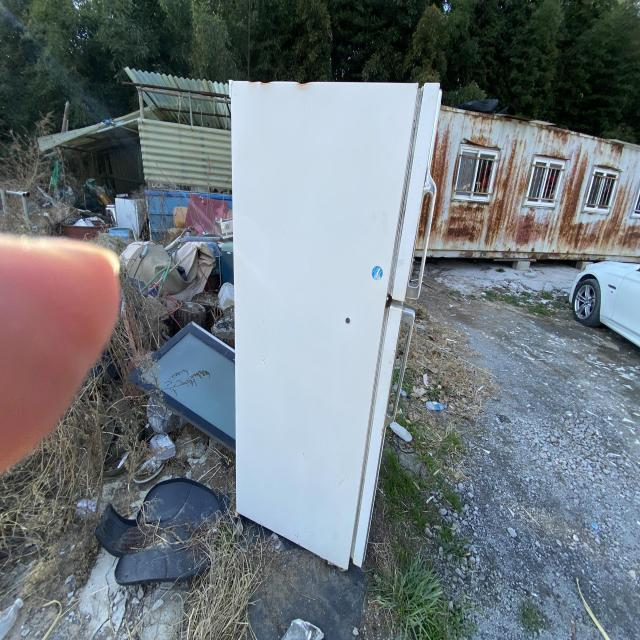refrigerator: (228, 66, 447, 582)
